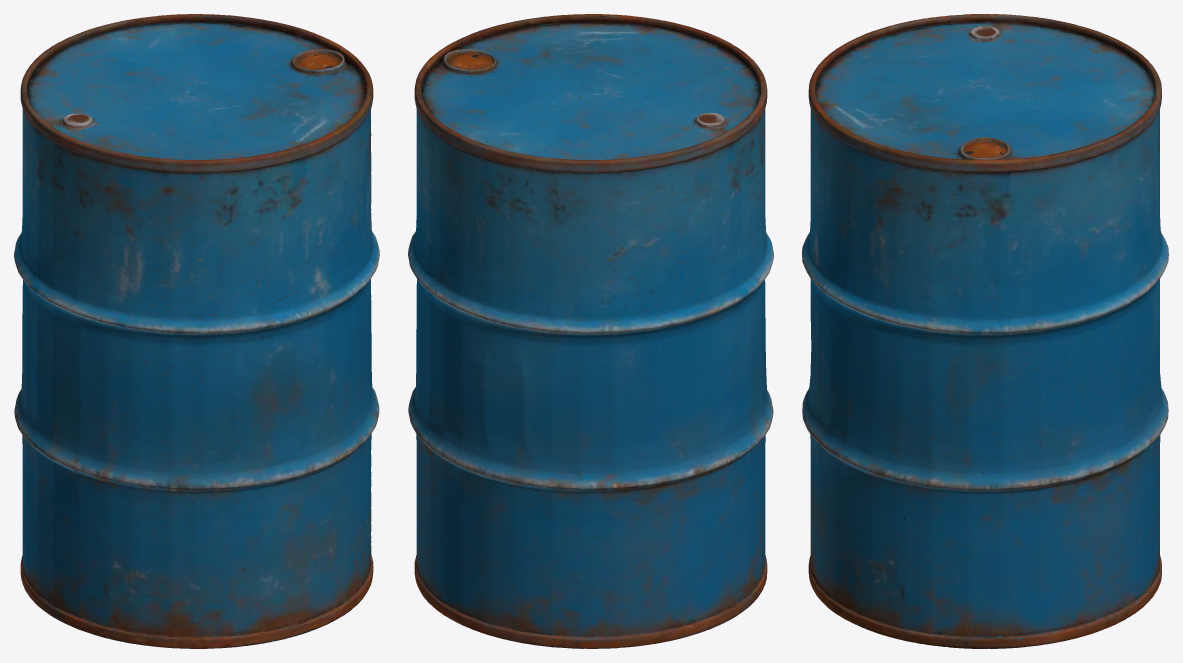
Rendered from oil_barrel.glb.
The picture shows the model from 3 angles, left to right: view 1: azimuth 30°, elevation 25°; view 2: azimuth 150°, elevation 25°; view 3: azimuth 270°, elevation 25°; orthographic projection.
Parts seen in each view (by area): view 1: world; view 2: world; view 3: world.
Part boxes in pixels (<box>): world: <box>14,14,379,648</box>; world: <box>408,14,773,648</box>; world: <box>802,14,1168,648</box>.
Size of the model in its own units: 0.6841 by 1 by 0.6845.
1 material, 1 textured.
